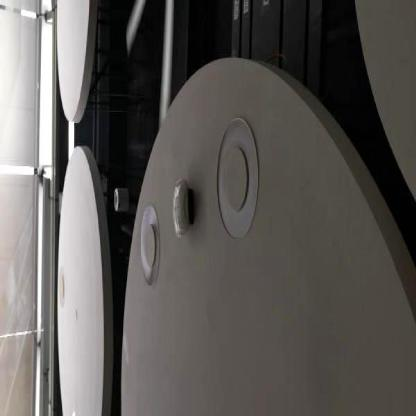light_off: (210, 94, 272, 254), (137, 182, 164, 294)
